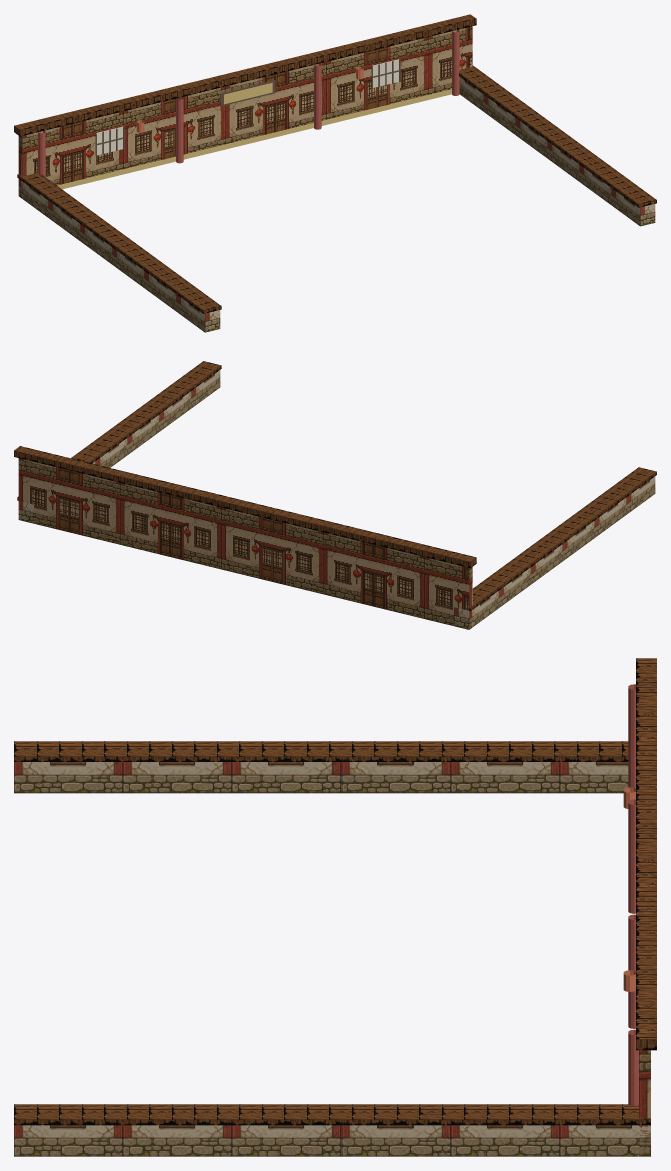
Rendered from rm_hall_in.glb.
3 views of the same model, one above another, from view 1: azimuth 30°, elevation 25°; view 2: azimuth 150°, elevation 25°; view 3: azimuth 270°, elevation 25° (orthographic). The views are drawn at different scales.
Parts seen in each view (by area): view 1: wall, beam, side, trim, post, paper, lat; view 2: wall, beam, side; view 3: side, beam, post, wall.
Part boxes in pixels (x1,y1,x2,y2): wall: (18, 26, 472, 198); beam: (14, 14, 656, 313); side: (18, 77, 655, 332); trim: (22, 83, 451, 197); post: (38, 29, 459, 176); paper: (96, 59, 398, 155); lat: (95, 59, 400, 155); wall: (18, 458, 472, 629); beam: (14, 361, 656, 610); side: (18, 370, 655, 629); side: (14, 762, 650, 1156); beam: (14, 658, 656, 1125); post: (628, 684, 638, 1105); wall: (639, 1050, 650, 1156).
Bounding box in the file's own units: 300 × 44.01 × 214.
8 materials, 3 textured.
